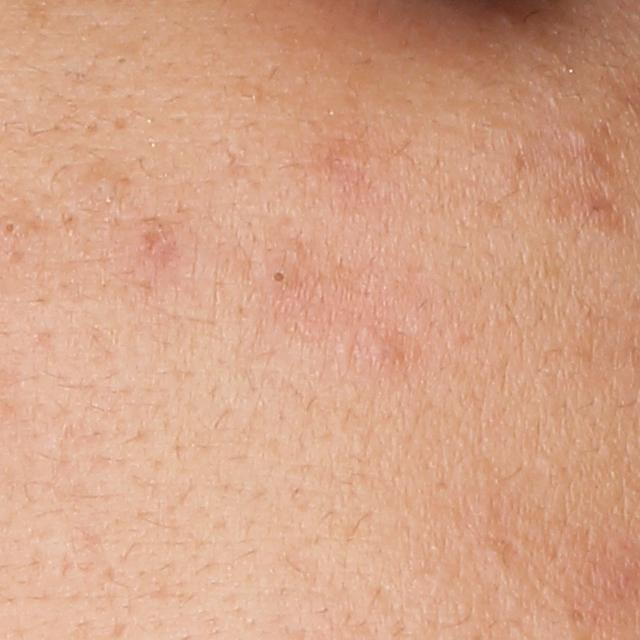comedo: (355, 327, 394, 372), (84, 166, 128, 204), (565, 122, 600, 152), (106, 47, 134, 75), (265, 264, 293, 291)
